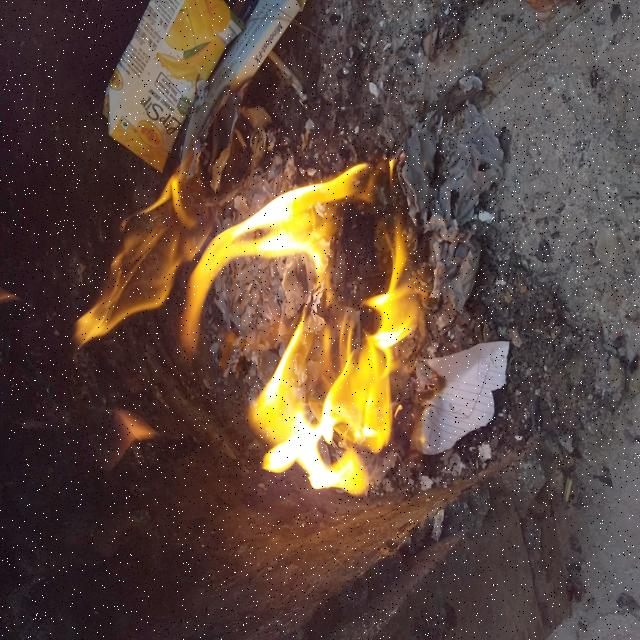fire: (82, 110, 448, 498)
